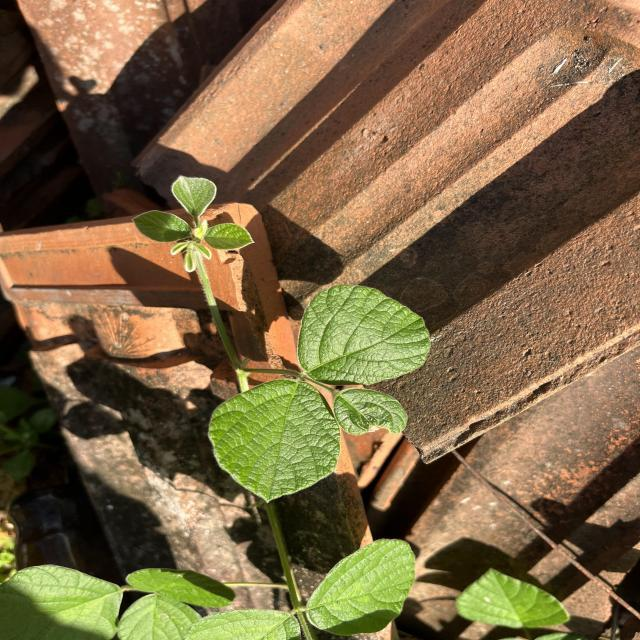Pseudarthria viscida: (206, 284, 434, 506)
